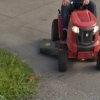Tractor: (32, 4, 100, 67)
